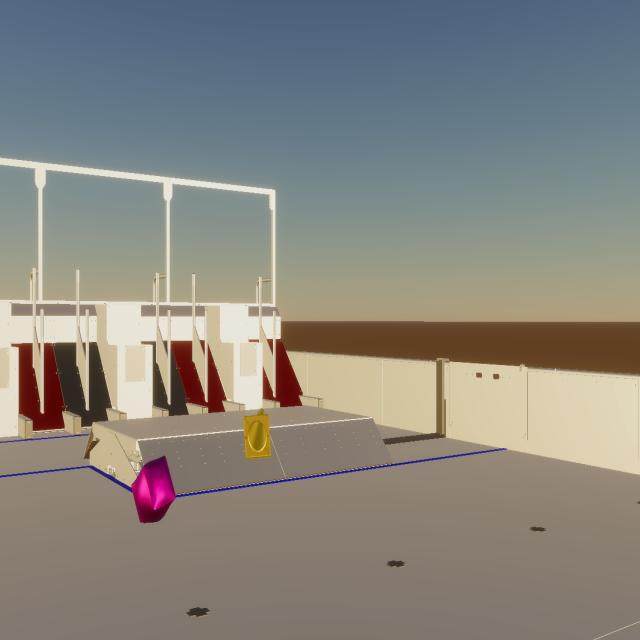frc_cone: (243, 408, 271, 459)
frc_cube: (131, 456, 176, 523)
